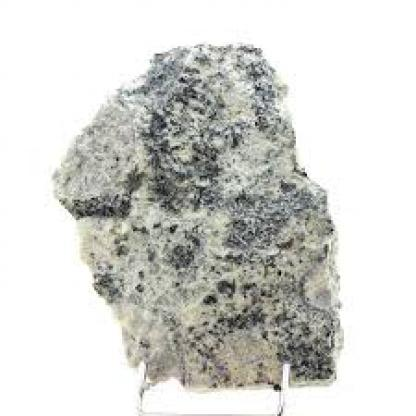Igneous_Diorite: (42, 28, 352, 394)
